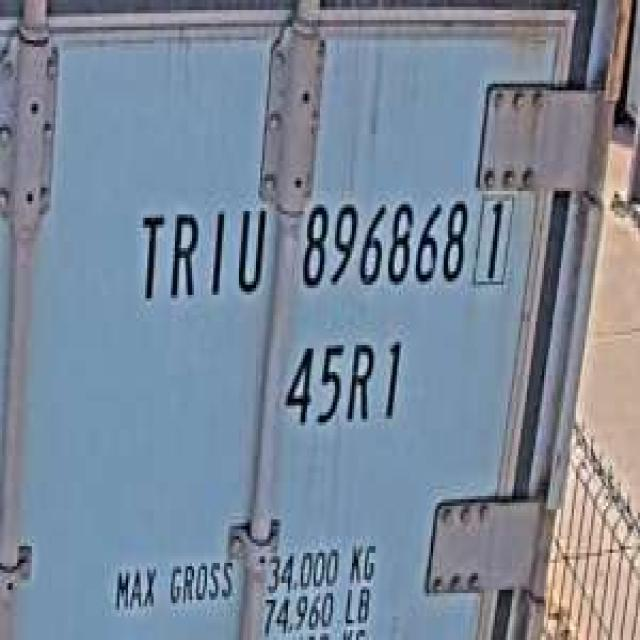dv: (472, 185, 516, 292)
owner: (132, 188, 269, 312)
serial: (294, 181, 470, 302)
size: (277, 328, 410, 436)
